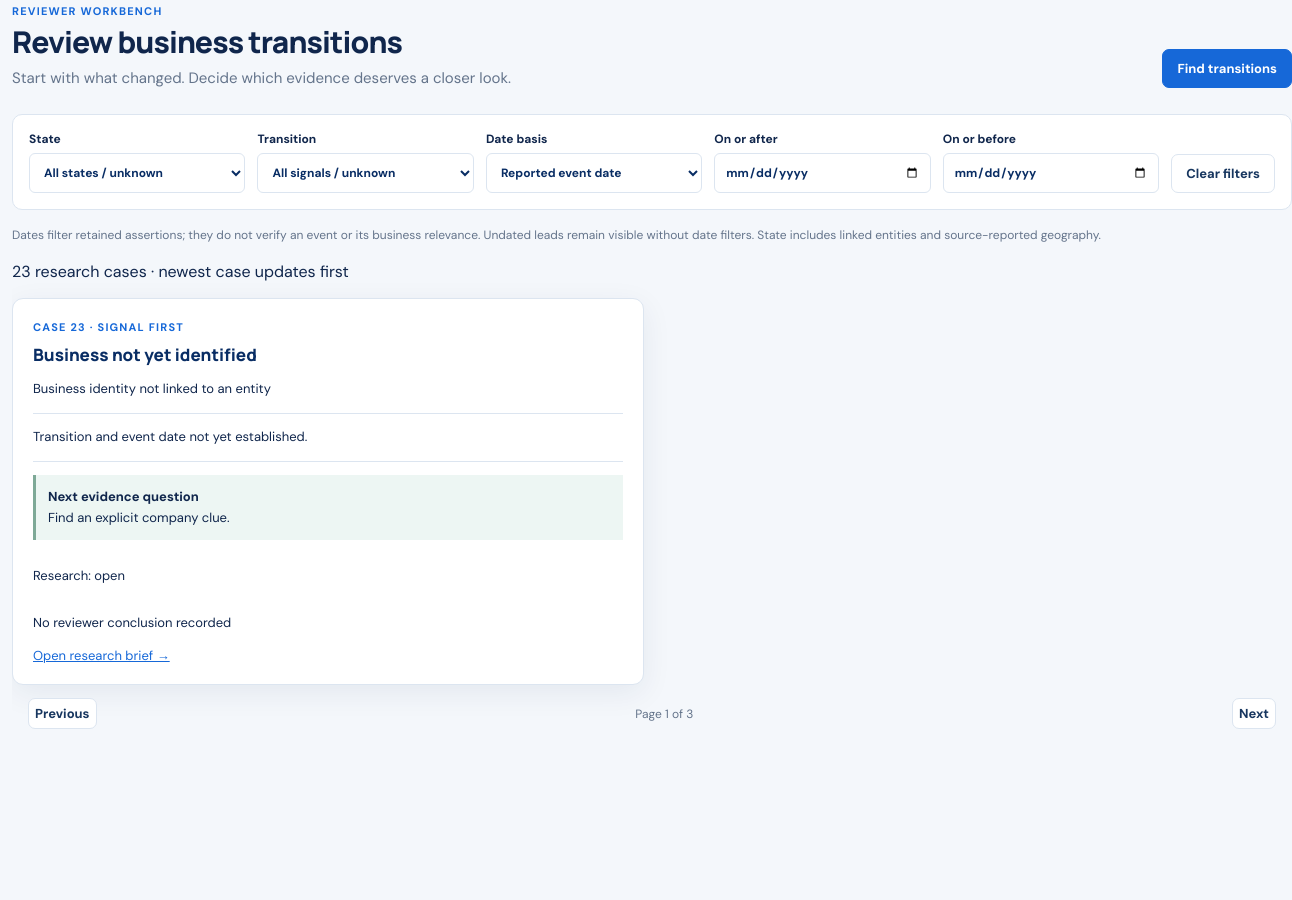
it: keeps unknown businesses, analyst attribution and URL-based pagination
Expected: the heading "Business not yet identified" is shown, [33, 343, 257, 366]
Expected: the text "No reviewer conclusion recorded" is shown, [33, 614, 231, 631]
Click the button "Next" at point(1254, 714), box [1232, 698, 1276, 729]
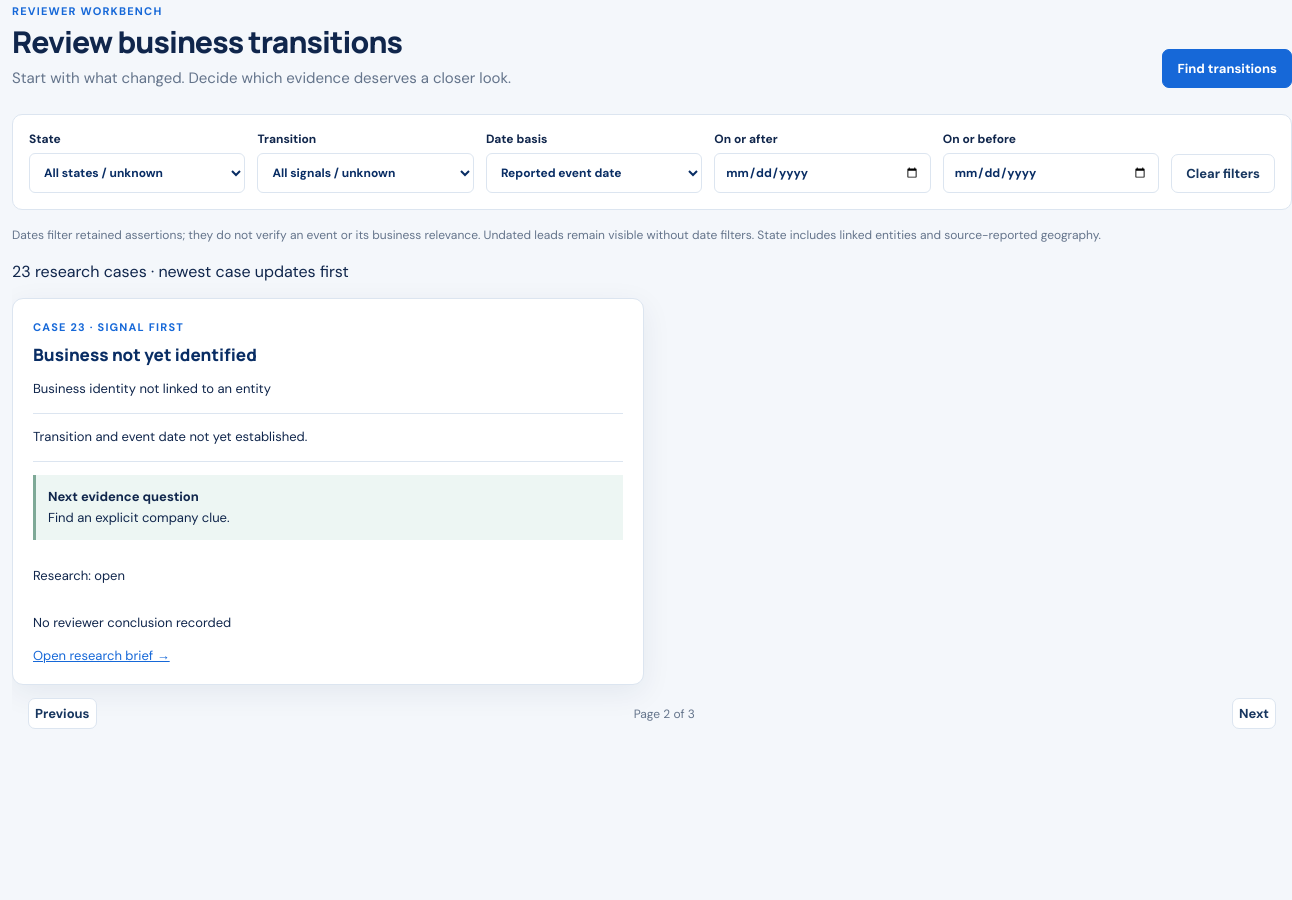
Expected: the text "Page 2 of 3" is shown, [634, 706, 695, 722]
Select "UT" in the dropdown labelled "State" at point(137, 172), box [29, 152, 245, 192]
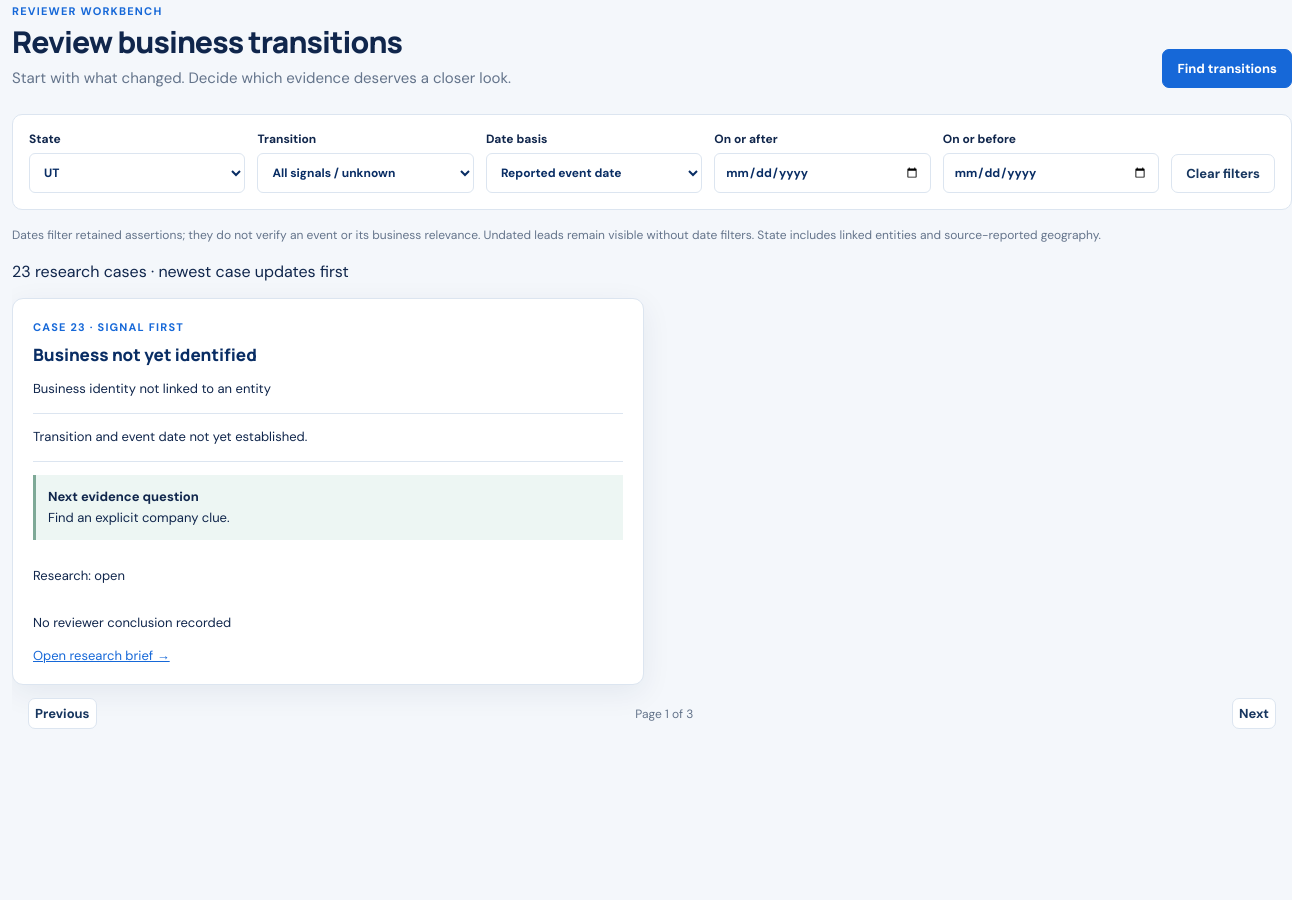
Expected: the text "Page 1 of 3" is shown, [635, 706, 693, 722]
